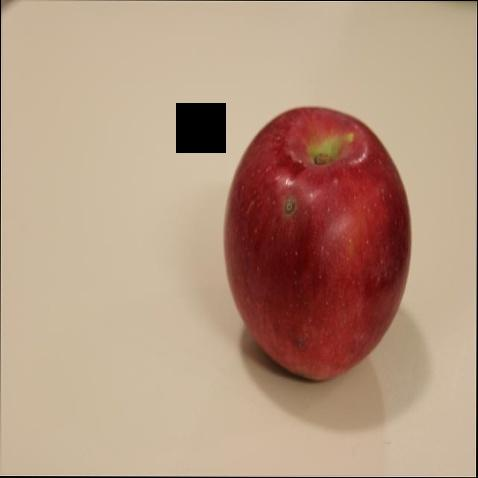red apple: (221, 104, 412, 383)
